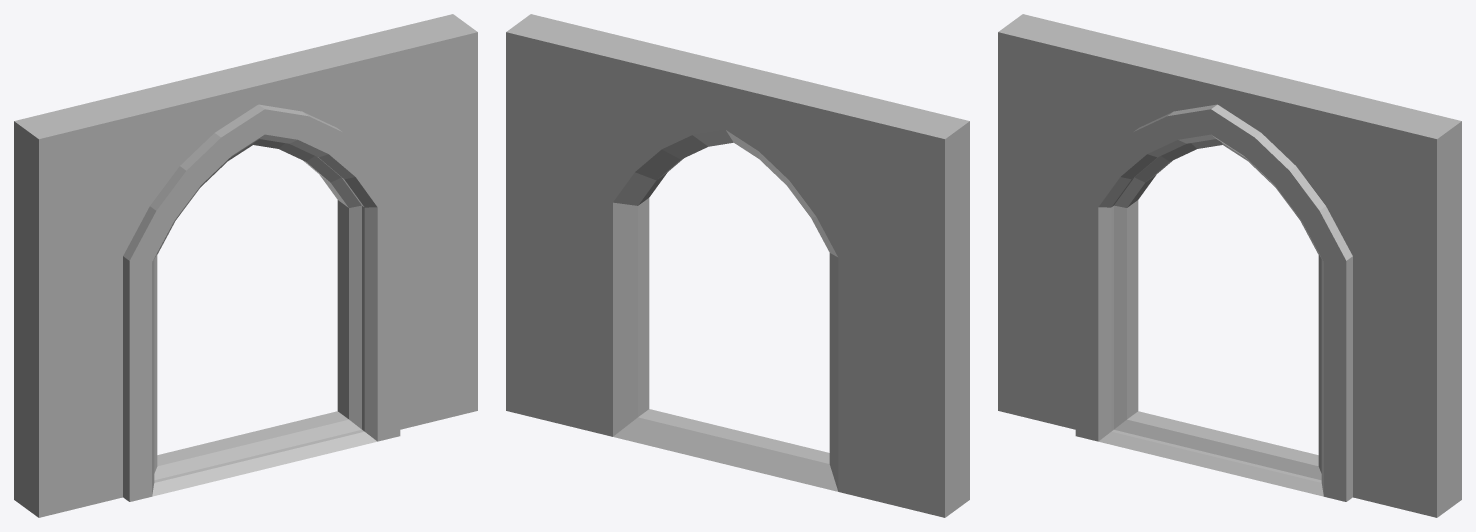
The model's file is Archway.fbx.
3 views of the same model, side by side, from view 1: azimuth 30°, elevation 25°; view 2: azimuth 150°, elevation 25°; view 3: azimuth 330°, elevation 25° (orthographic).
Parts seen in each view (by area): view 1: ArchCurvedhole; view 2: ArchCurvedhole; view 3: ArchCurvedhole.
Boxes of the visible parts, x1=… form: ArchCurvedhole: x1=14, y1=14, x2=477, y2=517; ArchCurvedhole: x1=506, y1=14, x2=969, y2=517; ArchCurvedhole: x1=998, y1=14, x2=1461, y2=517.
Bounding box in the file's own units: 779 × 642 × 96.16.
